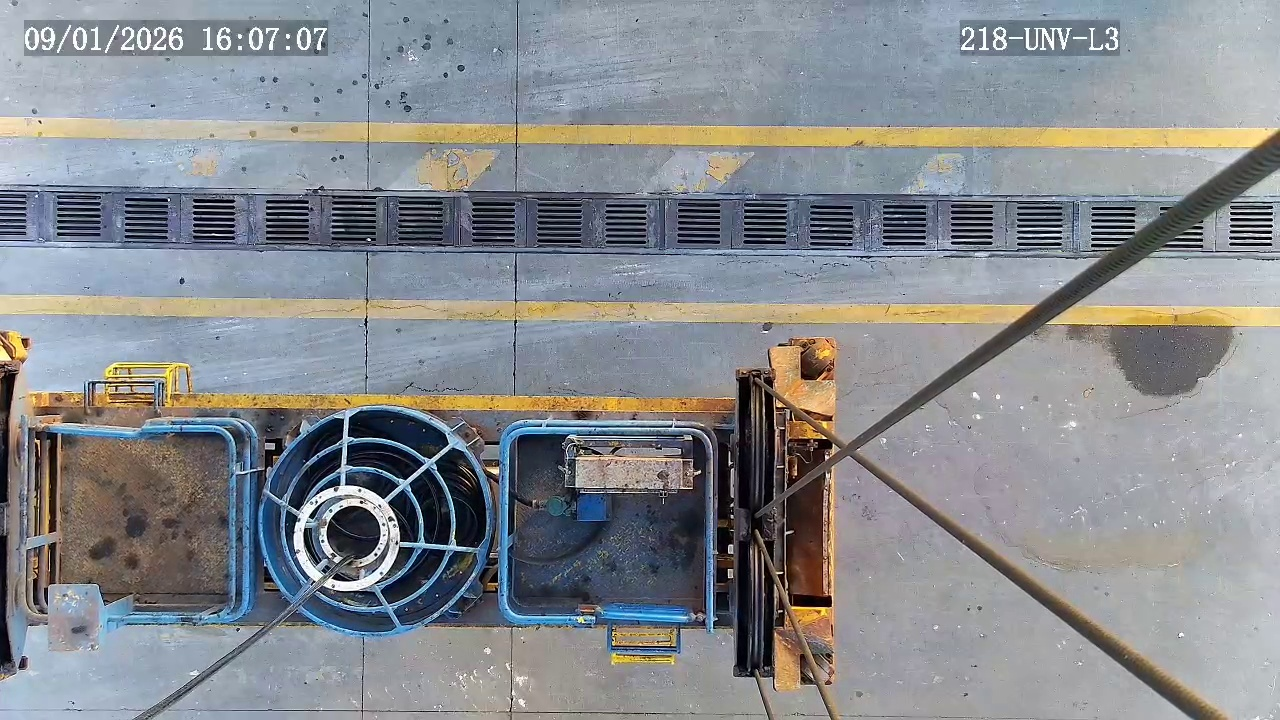right: (293, 485, 400, 591)
